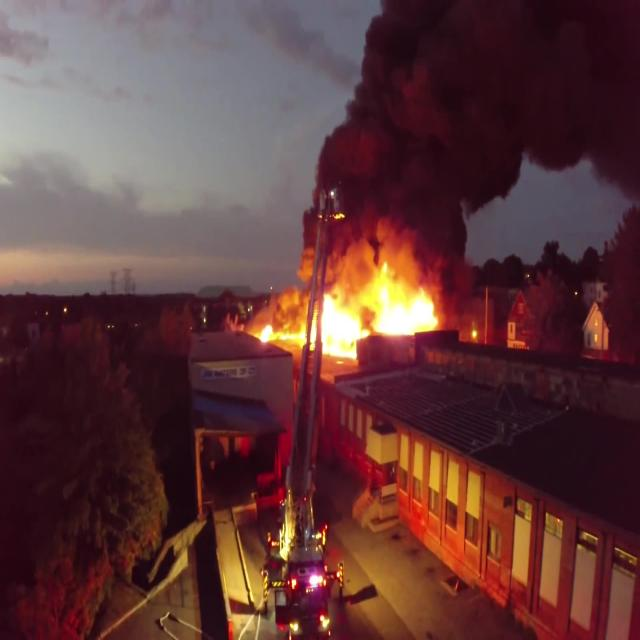Fire: (255, 250, 448, 364)
Smoke: (255, 0, 640, 344)
